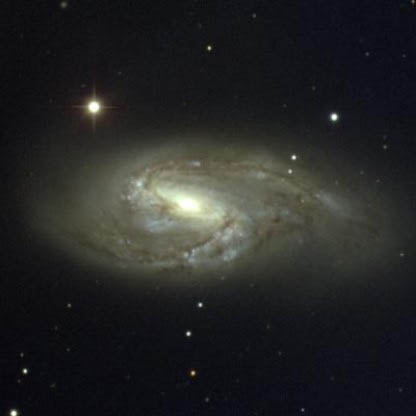Messier 66: (41, 88, 388, 317)
